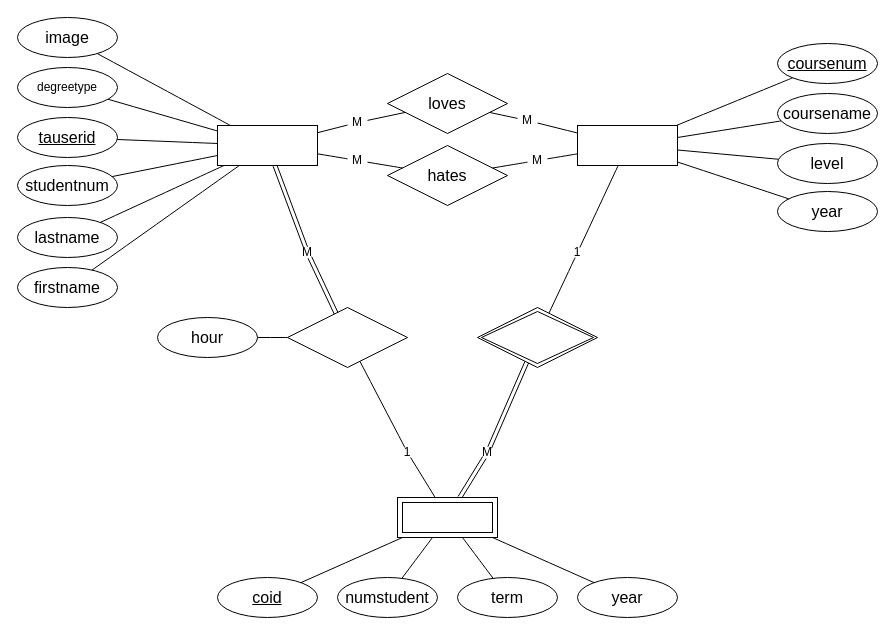
Some shapes in this 895 by 635 pixel diagram are drawn without their labels. The box of each missing label's shape, as (x1, y1, x2, y2) in pixels:
associate: (476, 306, 598, 368)
course: (576, 124, 678, 166)
courseoffer: (396, 496, 498, 538)
hasworkedon: (286, 306, 408, 368)
ta: (216, 124, 318, 166)
